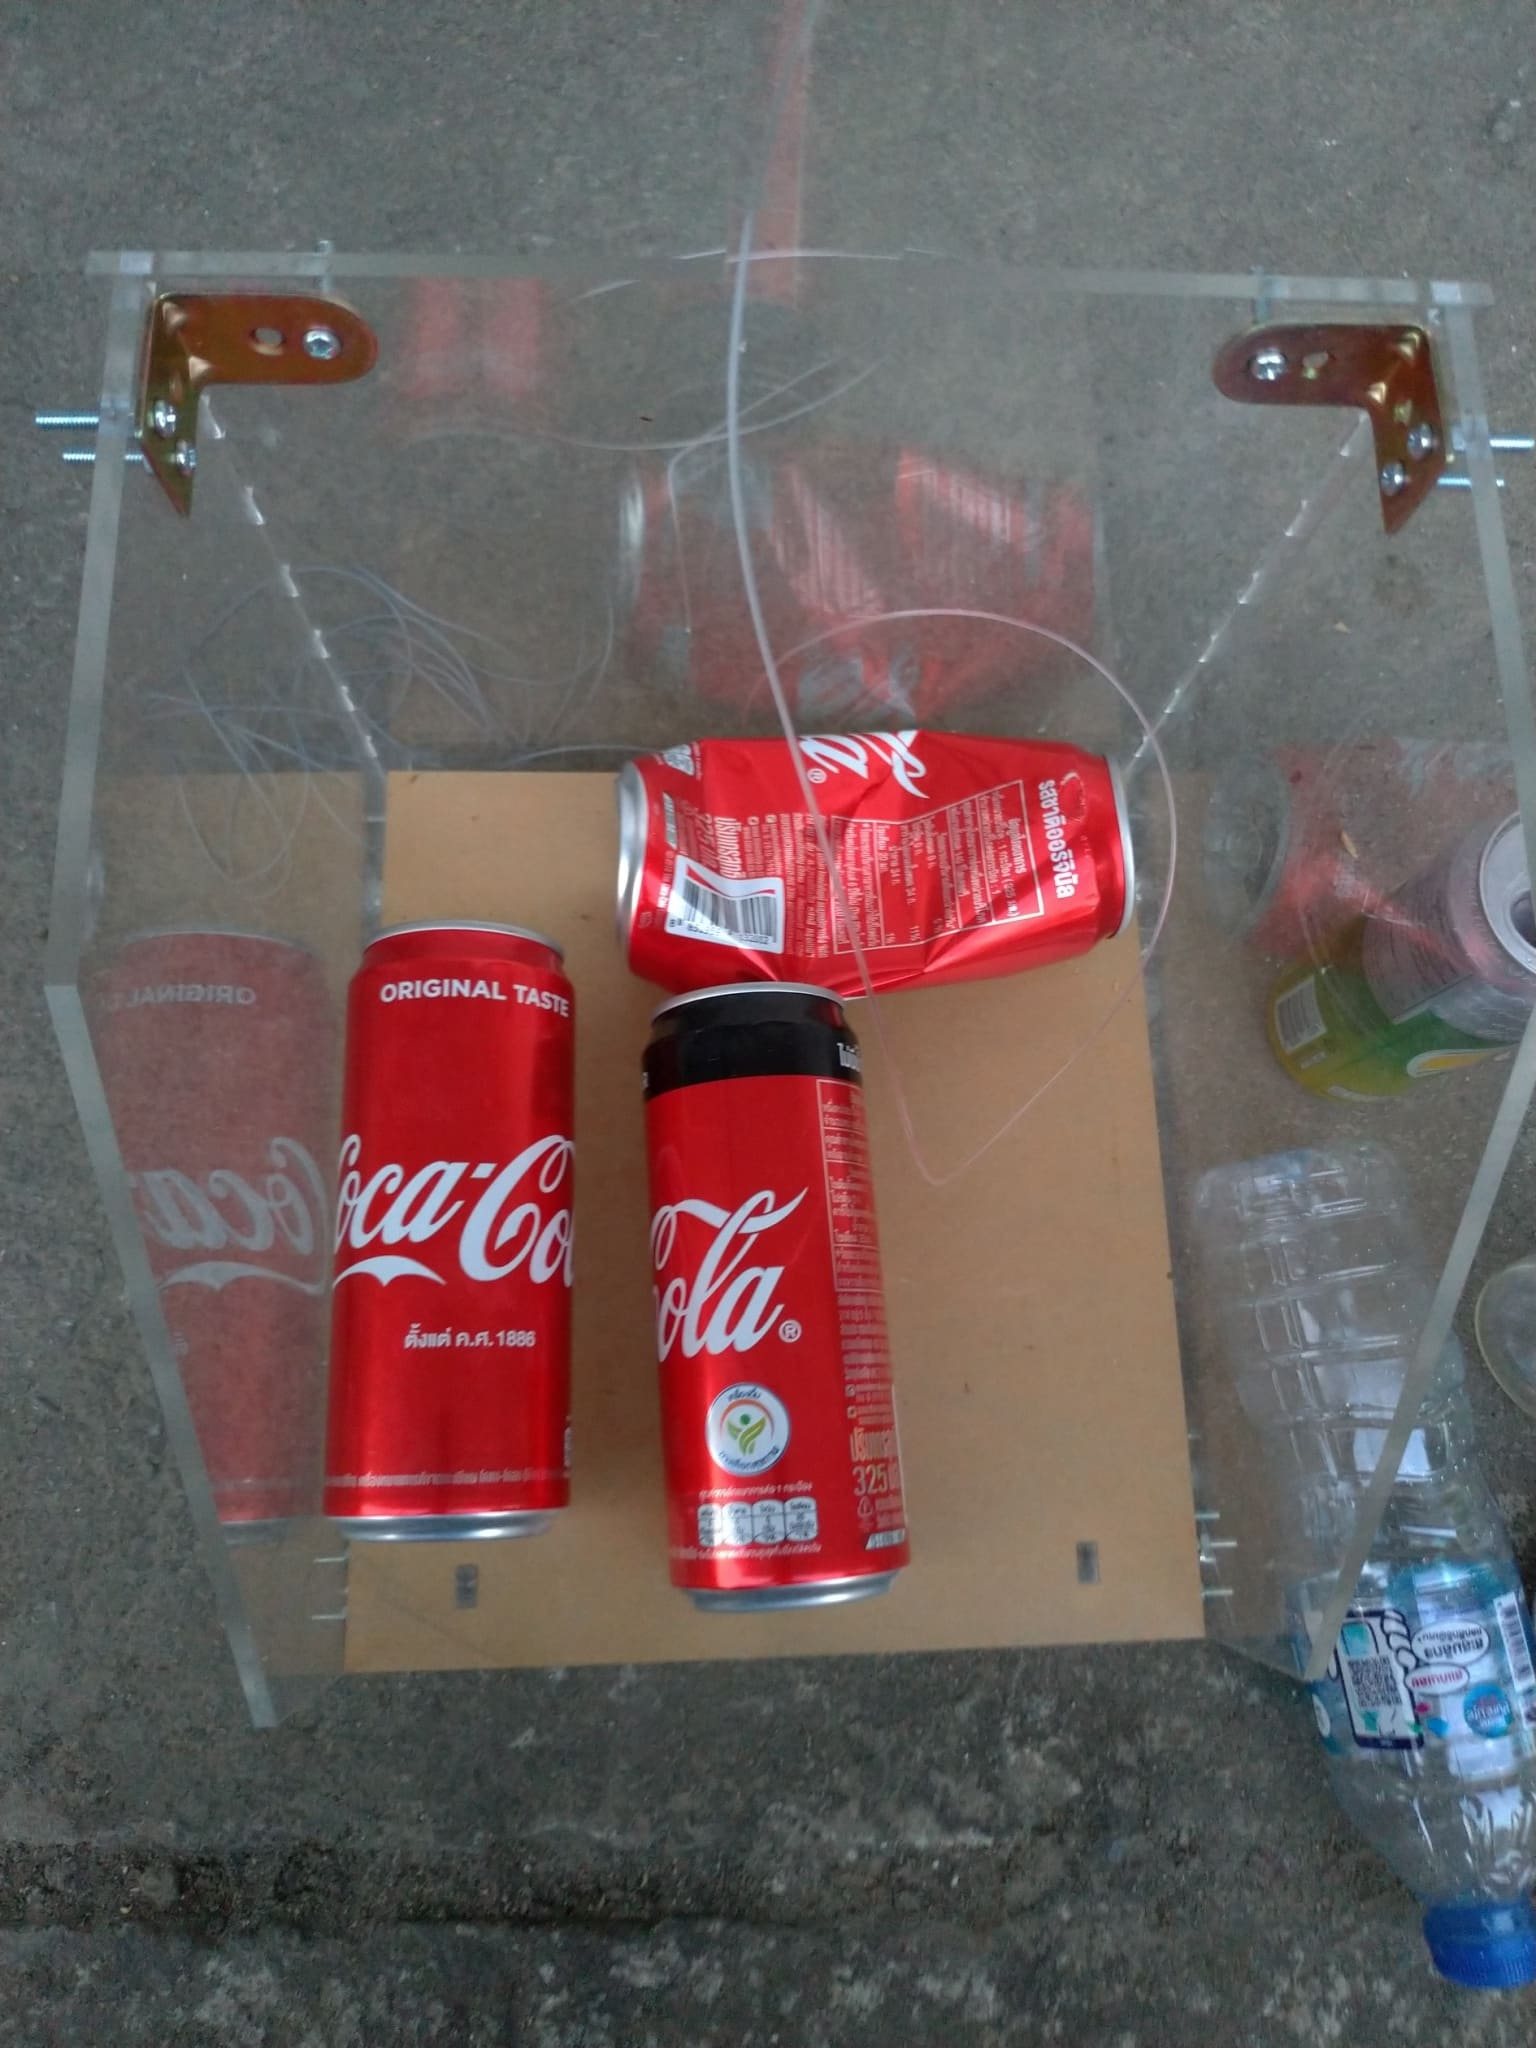AlCan: (641, 980, 916, 1616), (324, 922, 573, 1542), (616, 729, 1141, 997)
